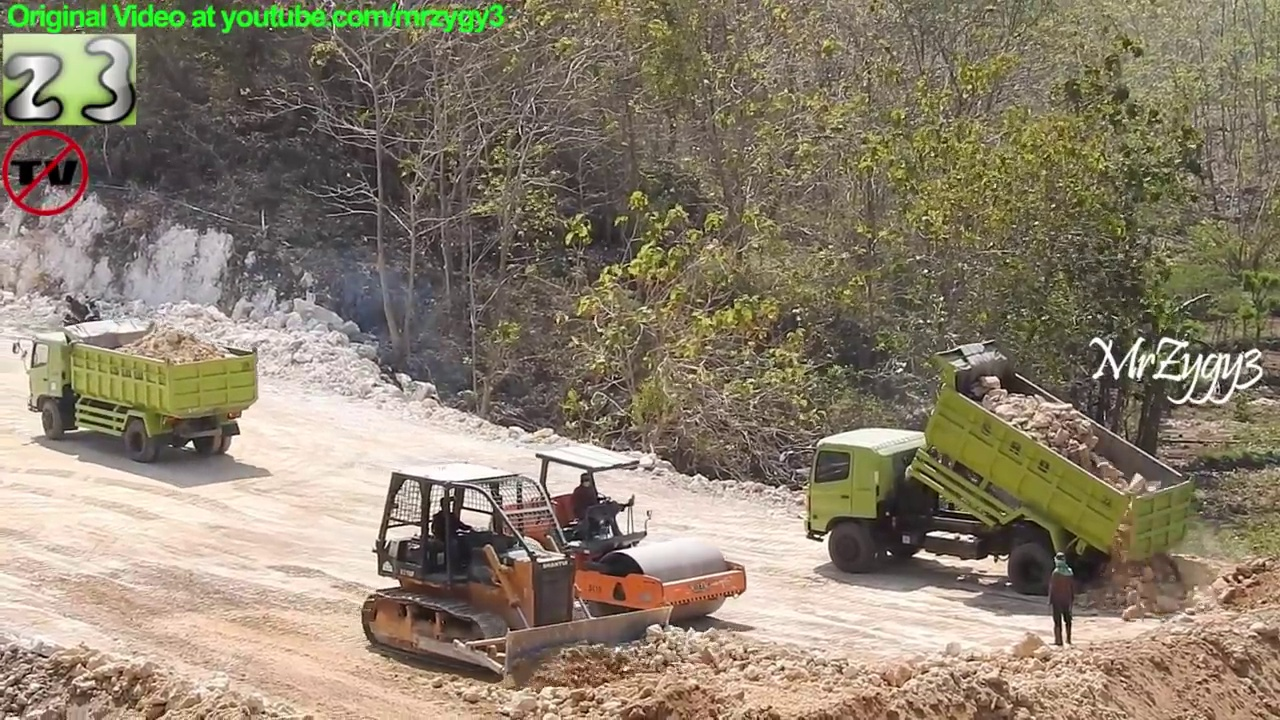bulldozer: (355, 461, 677, 686)
compactor: (474, 441, 753, 637)
truck: (788, 334, 1199, 600), (10, 313, 265, 469)
